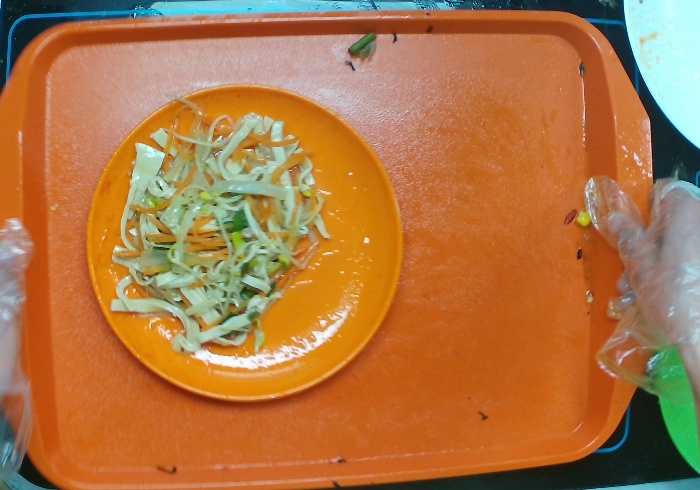HZYJPL-Ju_Huang_Yuan_Pan: (85, 82, 404, 403)
